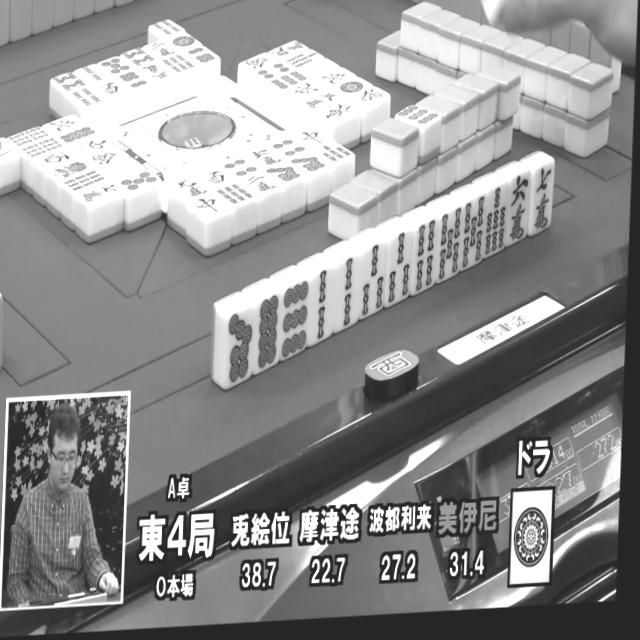m6: (507, 172, 533, 246)
m7: (528, 160, 554, 235)
s2: (333, 254, 364, 334), (310, 266, 340, 345)
s3: (360, 240, 391, 321), (384, 229, 414, 309)
s4: (411, 218, 440, 297)
s5: (435, 207, 465, 285), (461, 195, 489, 273)
s7: (482, 185, 510, 261)
t1: (511, 491, 552, 580)
t7: (220, 307, 258, 388)
t8: (254, 293, 283, 374)
t9: (275, 279, 311, 362), (395, 97, 441, 134)
